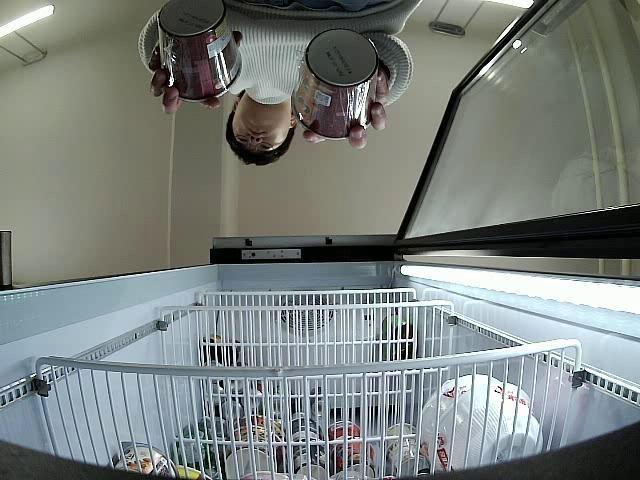06_nuguri_S: (290, 28, 379, 138), (156, 0, 242, 100)
